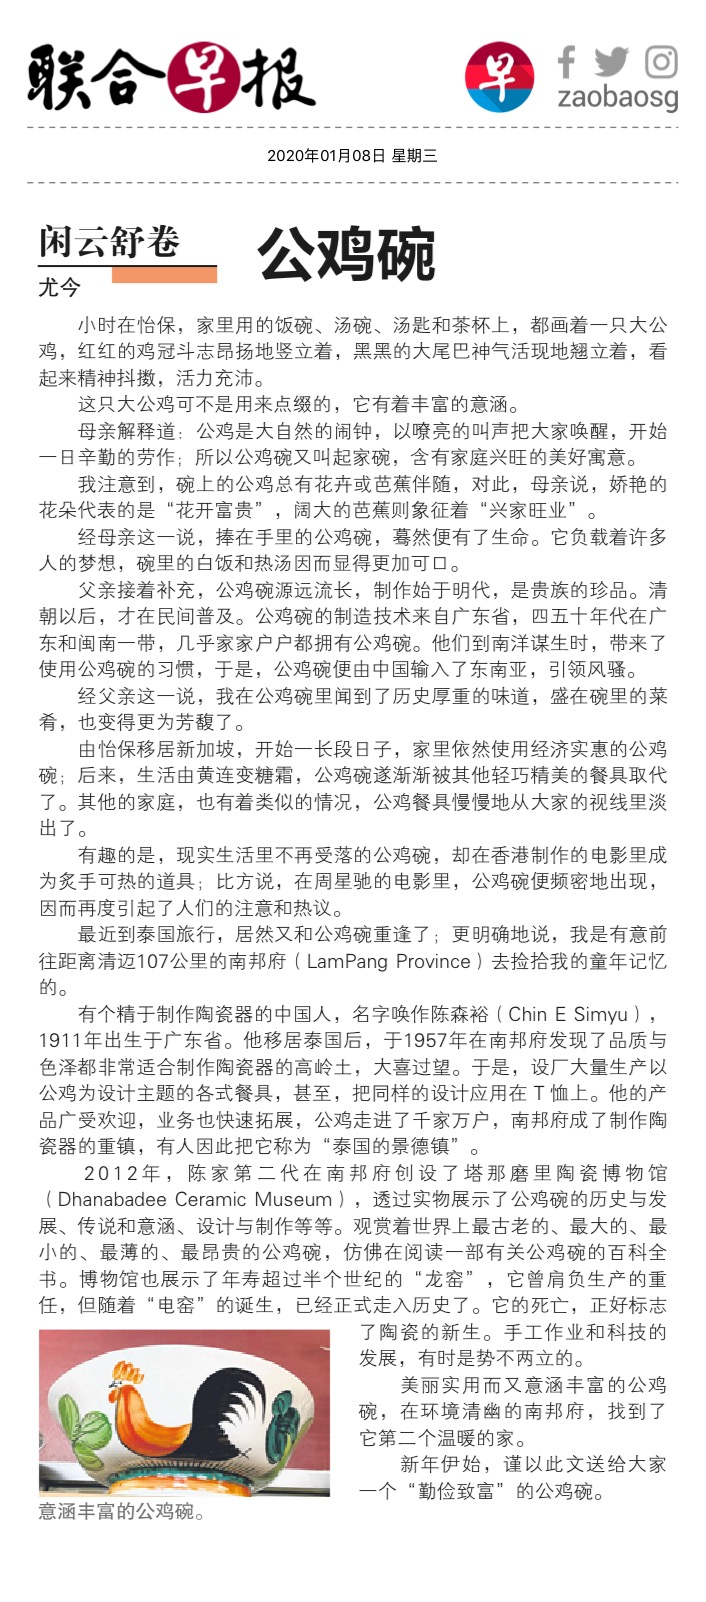heading: (253, 214, 444, 294)
